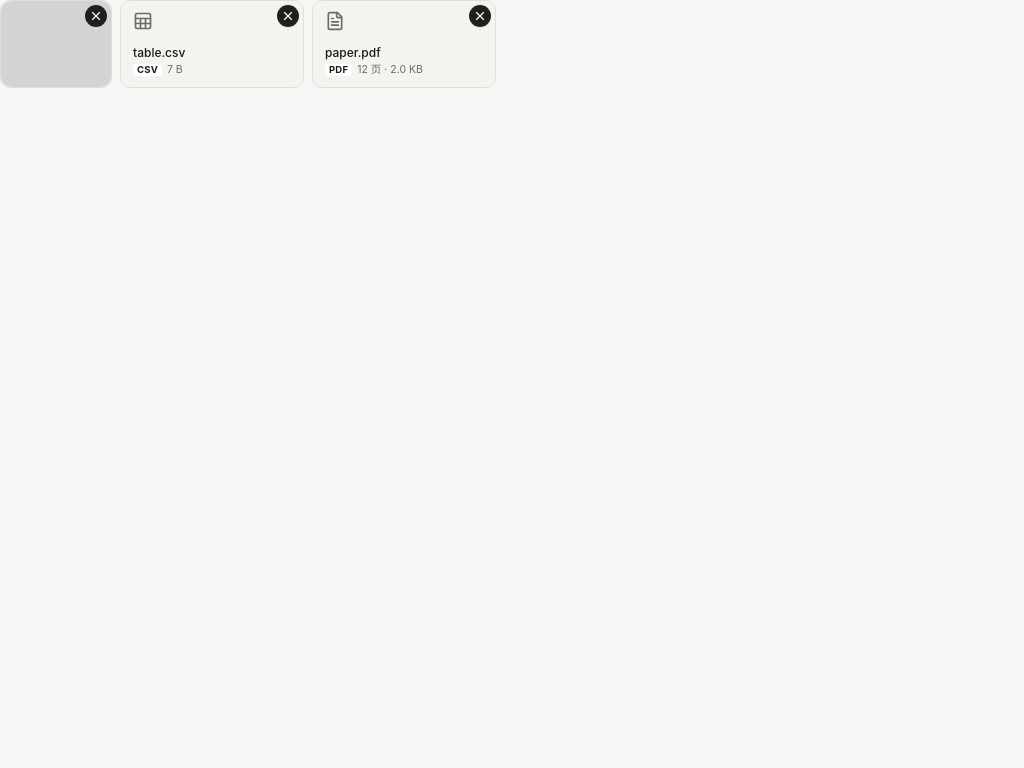
Test: ImageStrip › draws files beside the images, each removable and previewable
Expected: the list named "3 个附件" is shown, [0,0,496,88]
Expected: the list item named "预览文件 paper.pdf" shows "12 页", [313,1,495,87]
Click the button named "移除文件 paper.pdf". click: (480, 16)
box: [469,5,491,27]
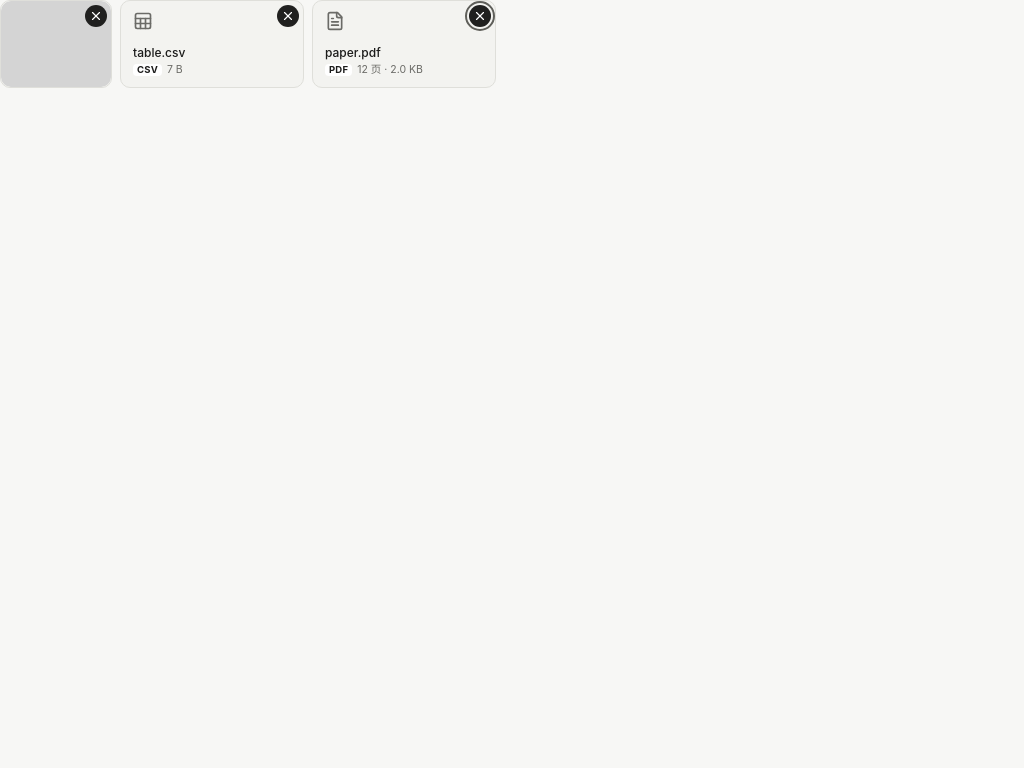
Click the button with aria-label "预览文件 table.csv". click: (212, 44)
box: [121,1,303,87]
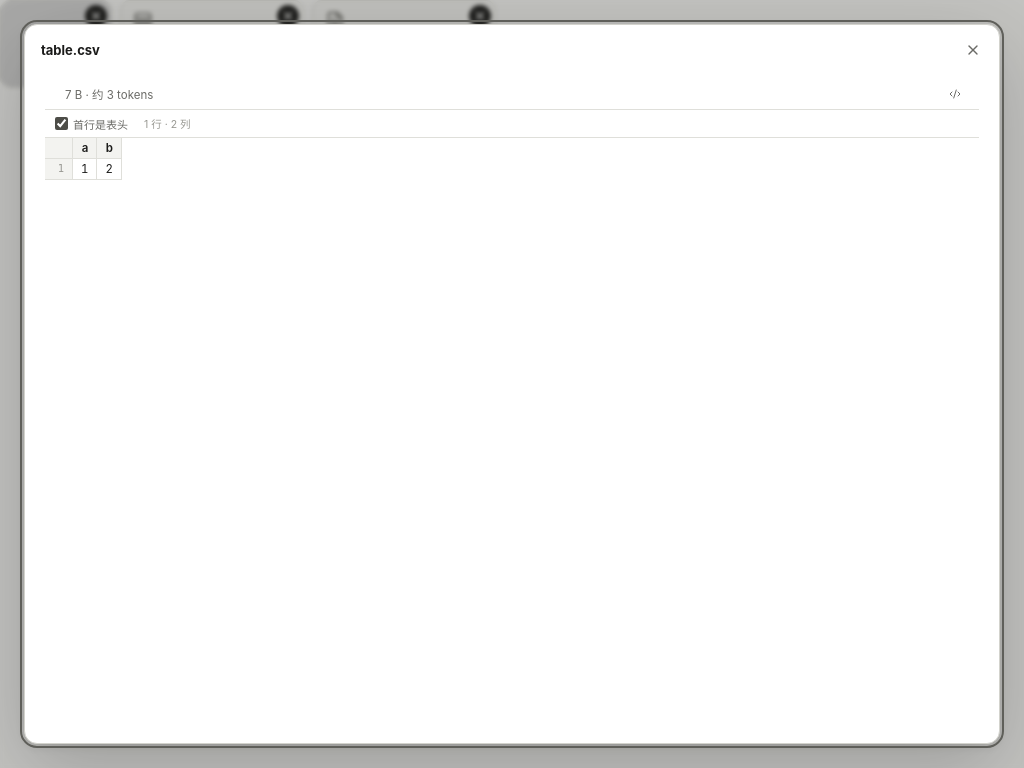
Expected: the table shows "1", [58,162,64,174]
